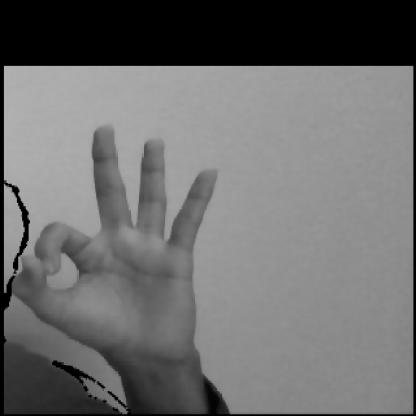ok: (5, 116, 237, 401)
